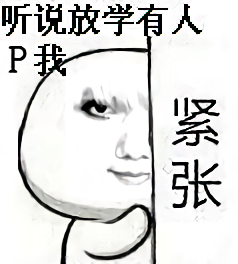dragon: (76, 89, 152, 184)
